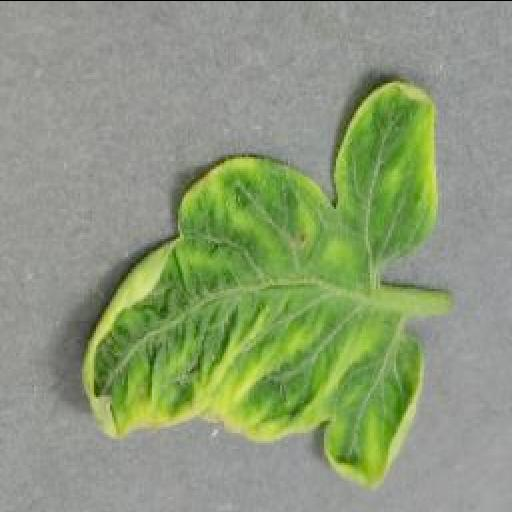disease_tomato: (78, 78, 440, 488)
